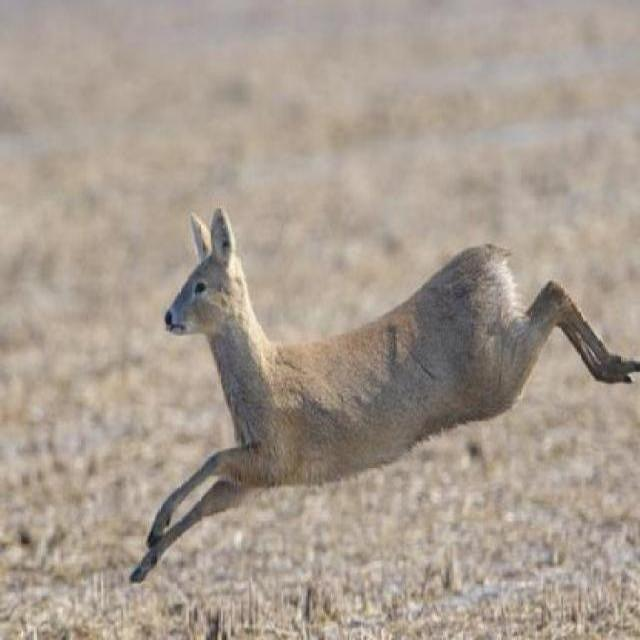deer: (99, 194, 638, 602)
